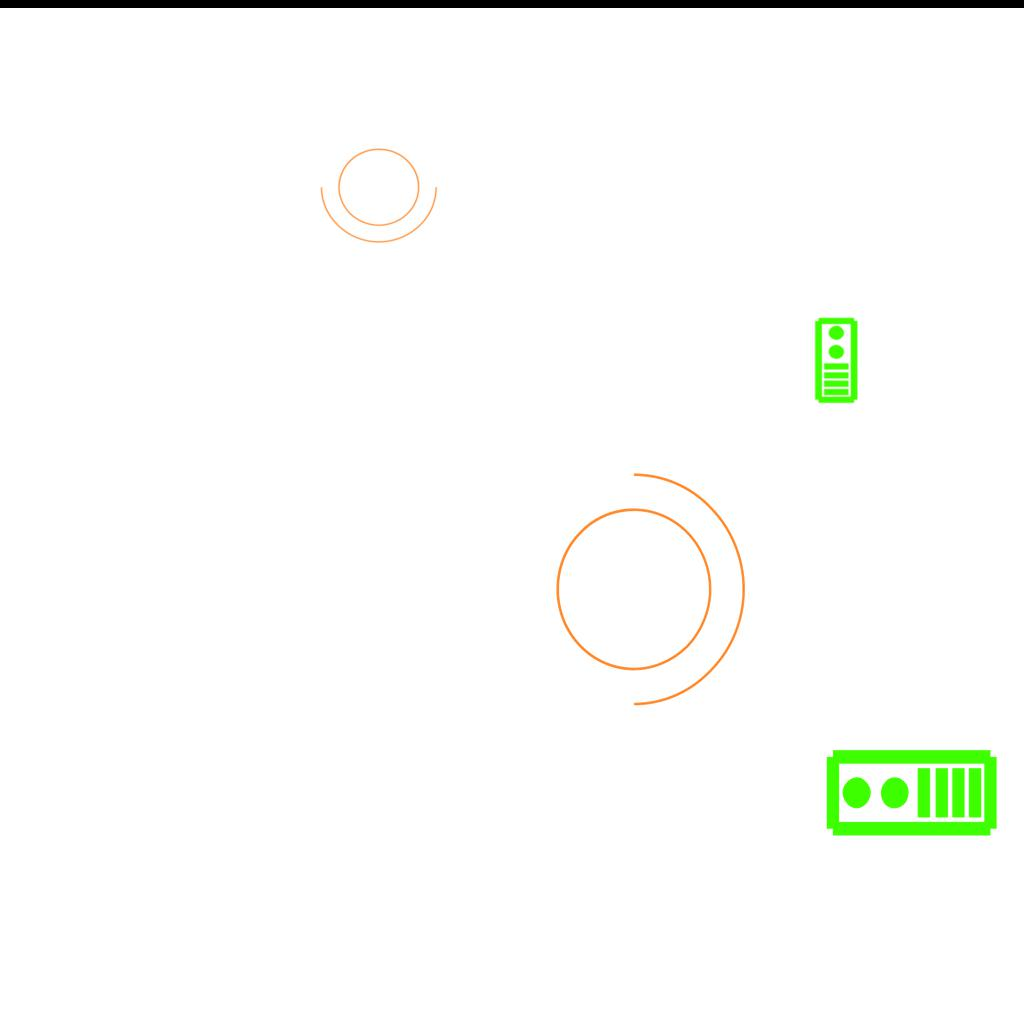Gegensprechanlage_mit_Video: (823, 747, 999, 842), (812, 316, 859, 404)
Scheinwerfer_fuer_Alarmbeleuchtung: (531, 451, 756, 715), (316, 136, 448, 248)
